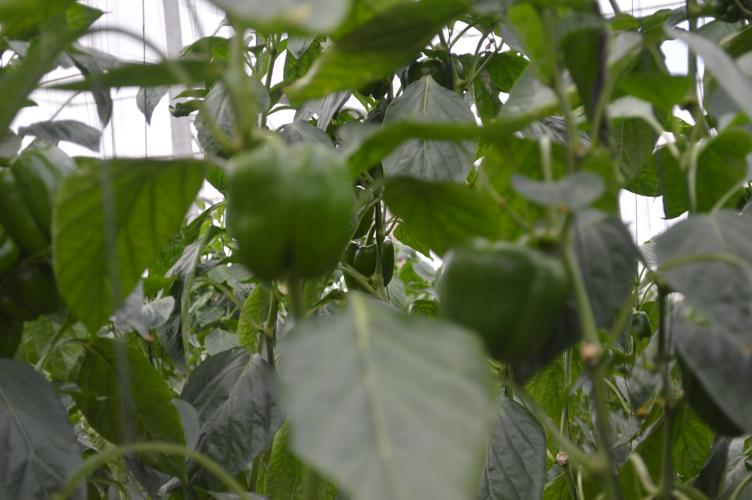BellPepper: (217, 143, 354, 274), (432, 244, 565, 354), (348, 236, 398, 290)
